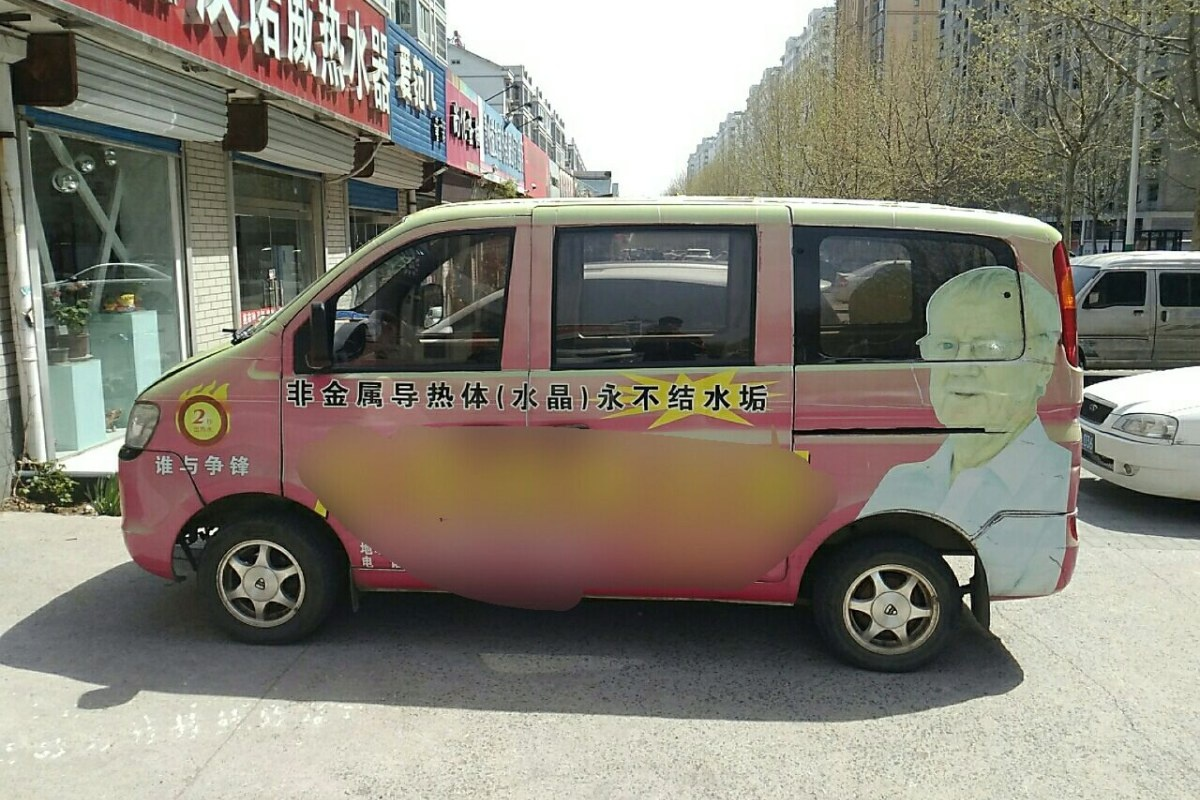minibus: (127, 195, 1106, 660)
